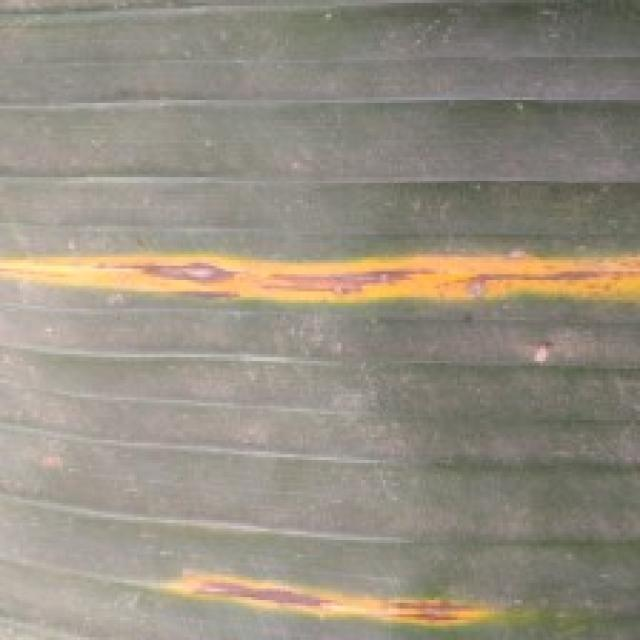Early_leaf_spot: (0, 202, 640, 356), (134, 554, 529, 640)
